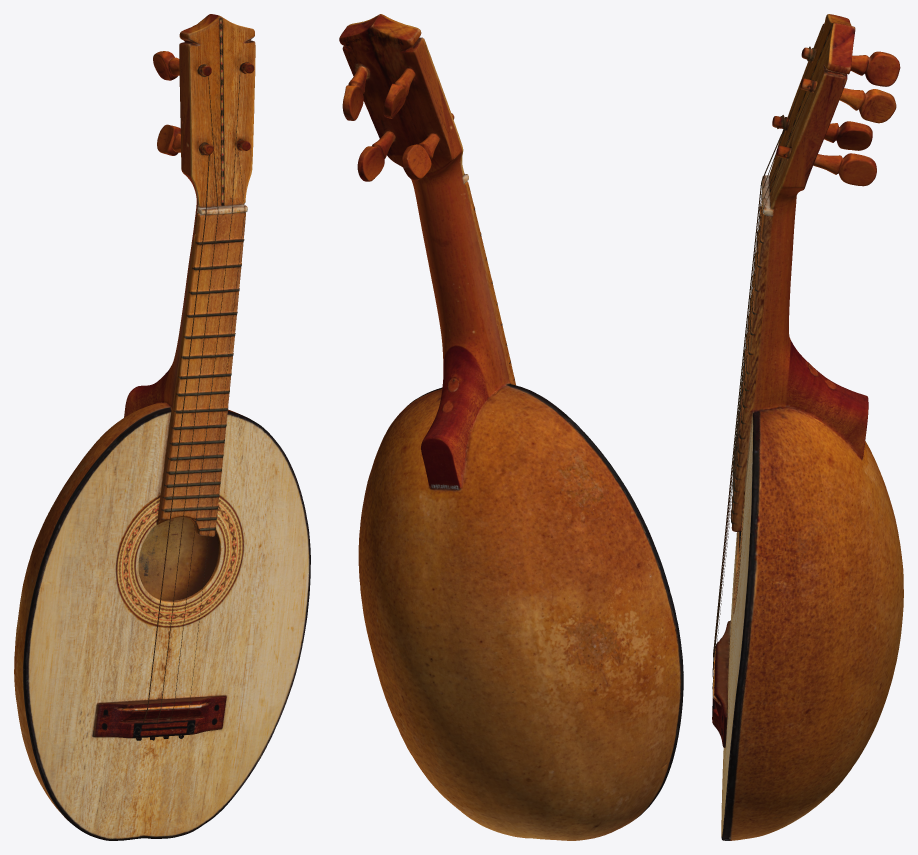
The model's file is cuatroInstrument.gltf.
3 renders of one model, left to right at view 1: azimuth 30°, elevation 25°; view 2: azimuth 150°, elevation 25°; view 3: azimuth 270°, elevation 25°, orthographic. The views are drawn at different scales.
Visible parts, largest first — view 1: Mesh_0.001; view 2: Mesh_0.001; view 3: Mesh_0.001.
Part boxes in pixels (x1,y1,x2,y2): Mesh_0.001: [14, 14, 310, 840]; Mesh_0.001: [339, 14, 683, 840]; Mesh_0.001: [712, 14, 903, 840].
Size of the model in its own units: 0.2518 by 0.6365 by 0.1287.
2 materials, 2 textured.
